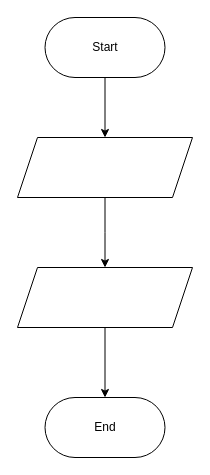
Image size: 210x475. Some labels were removed from this diagram. The shapes that lost their labels are listed below. From the top down, each one's centre as x and y in pixels, then its label:
the point at 104,167: รับค่า Input จาก User และเก็บค่าลงใน a,b,c และ d
the point at 104,297: แสดงค่าจากตัวแปร d,c,b และ a
